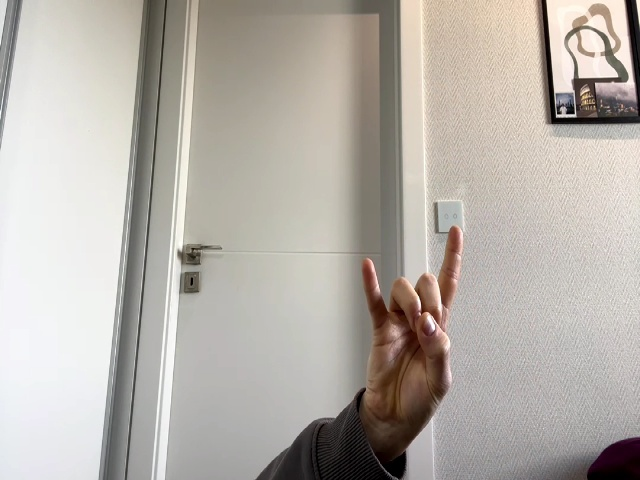Y: (363, 226, 463, 429)
